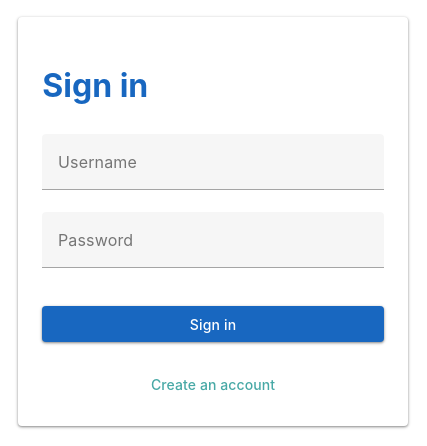
Feature 1 — Login view › US-1.2 — Sign in › User signs in with missing username
Type "secret123" into the password field labelled "Password" at (213, 240), box [42,212,384,268]
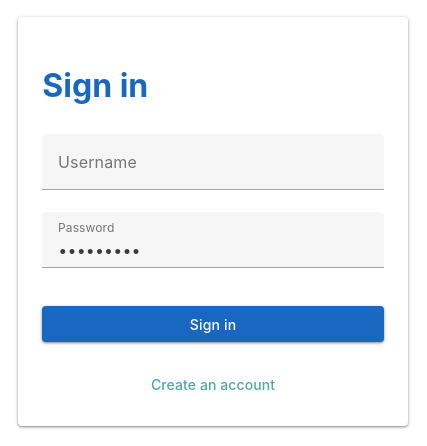
Submit the form, box [42,134,384,342]
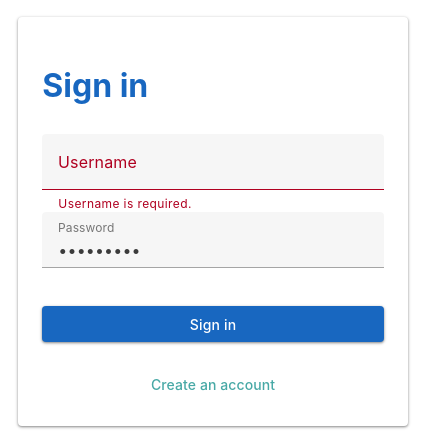
Expected: the text "Username is required." is shown, [58,196,192,211]
